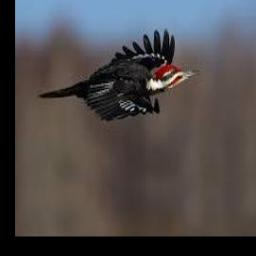Woodpecker: (39, 28, 200, 121)
